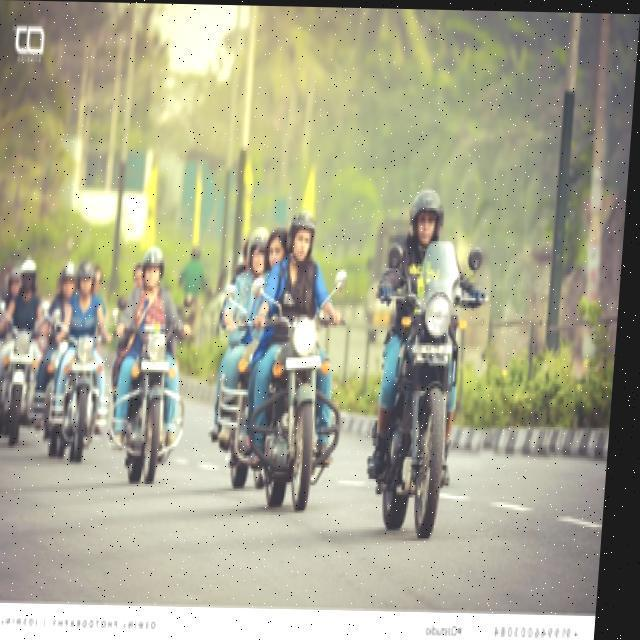Helmet: (407, 182, 452, 246), (287, 200, 326, 272), (138, 234, 170, 298), (77, 253, 104, 302)
